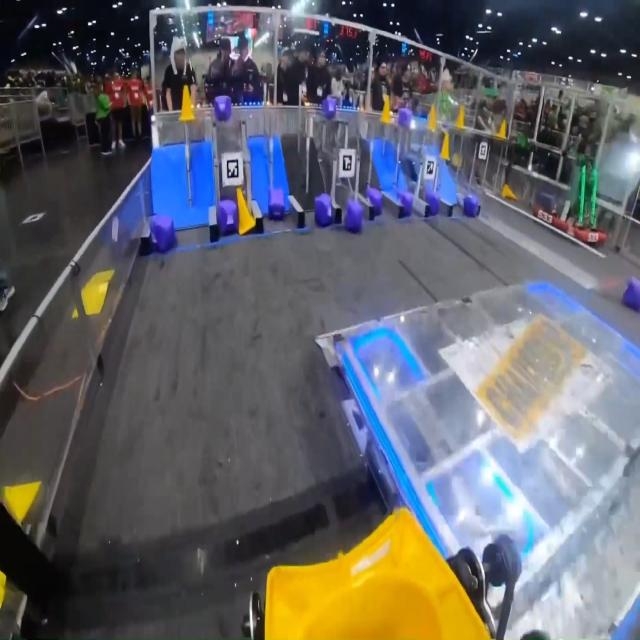robot: (565, 157, 607, 247), (534, 187, 568, 234)
